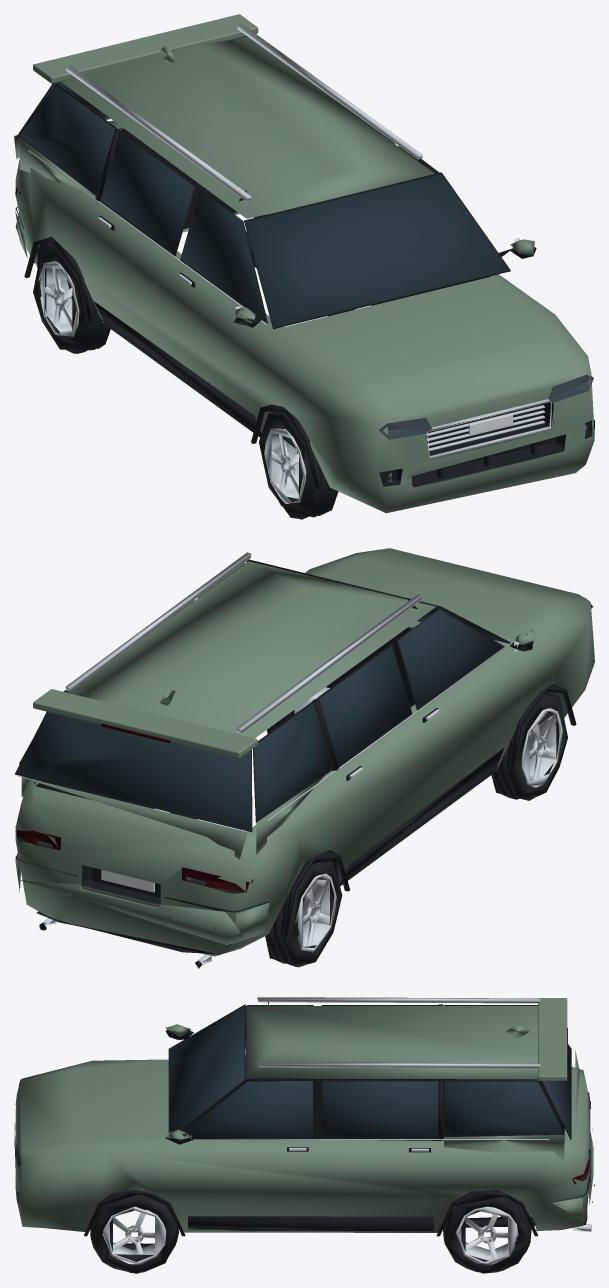
File: car-suv-sage.glb
3 views of the same model, one above another, from view 1: azimuth 30°, elevation 25°; view 2: azimuth 150°, elevation 25°; view 3: azimuth 270°, elevation 25° (orthographic). The views are drawn at different scales.
Parts seen in each view (by area): view 1: Aerodynamic mirror painted cap, Front side door glass, Aerodynamic mirror lower housing, 107 reused Alloy_five_spoke_rim, 107 reused Sculpted_tyre, Clear reversing lens insert; view 2: Aerodynamic mirror painted cap, Front side door glass, Aerodynamic mirror lower housing, 107 reused Alloy_five_spoke_rim, 107 reused Sculpted_tyre, Flush corner wrapping ruby lamp lens, Front license plate; view 3: Aerodynamic mirror painted cap, Front side door glass, Aerodynamic mirror lower housing, 107 reused Alloy_five_spoke_rim, 107 reused Sculpted_tyre.
Boxes of the visible parts, x1,y1,x2,y2 form: Aerodynamic mirror painted cap: (14, 14, 594, 513); Front side door glass: (16, 36, 509, 327); Aerodynamic mirror lower housing: (15, 83, 594, 489); 107 reused Alloy_five_spoke_rim: (28, 23, 552, 503); 107 reused Sculpted_tyre: (33, 213, 338, 519); Clear reversing lens insert: (378, 374, 593, 482); Aerodynamic mirror painted cap: (15, 548, 594, 956); Front side door glass: (16, 561, 508, 830); Aerodynamic mirror lower housing: (14, 559, 576, 968); 107 reused Alloy_five_spoke_rim: (39, 552, 562, 967); 107 reused Sculpted_tyre: (265, 691, 567, 967); Flush corner wrapping ruby lamp lens: (15, 723, 249, 891); Front license plate: (101, 870, 154, 892); Aerodynamic mirror painted cap: (15, 998, 593, 1232); Front side door glass: (169, 1005, 570, 1138); Aerodynamic mirror lower housing: (15, 1000, 594, 1236); 107 reused Alloy_five_spoke_rim: (15, 997, 590, 1264); 107 reused Sculpted_tyre: (90, 1138, 531, 1273).
Bounding box in the file's own units: 7.3 × 5.97 × 15.61.
8 materials, 8 textured.
